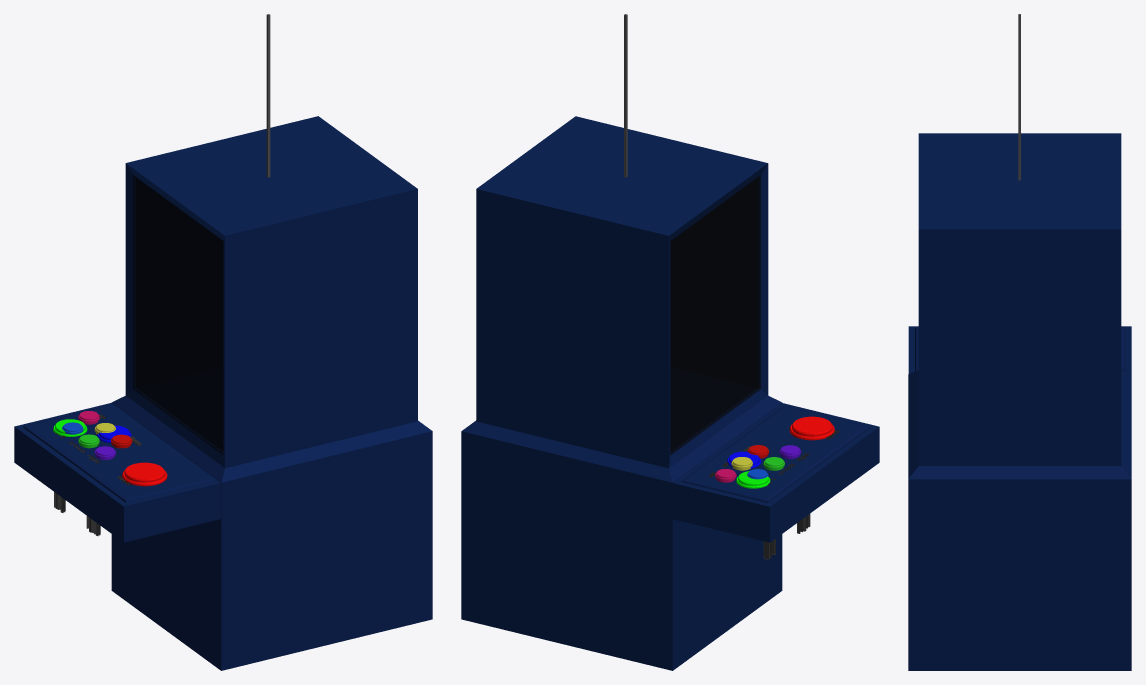
Rendered from arcade.fbx.
3 renders of one model, left to right at view 1: azimuth 30°, elevation 25°; view 2: azimuth 150°, elevation 25°; view 3: azimuth 270°, elevation 25°, orthographic.
Parts seen in each view (by area): view 1: StaticMeshActor_55, StaticMeshActor_62, StaticMeshActor_54, StaticMeshActor_49, StaticMeshActor_57; view 2: StaticMeshActor_55, StaticMeshActor_62, StaticMeshActor_54, StaticMeshActor_49, StaticMeshActor_57; view 3: StaticMeshActor_55, StaticMeshActor_54, StaticMeshActor_57.
Boxes of the visible parts, <box> form: StaticMeshActor_55: <box>111,116,432,670</box>; StaticMeshActor_62: <box>133,175,223,454</box>; StaticMeshActor_54: <box>14,403,220,542</box>; StaticMeshActor_49: <box>122,462,167,486</box>; StaticMeshActor_57: <box>266,14,270,177</box>; StaticMeshActor_55: <box>461,116,782,670</box>; StaticMeshActor_62: <box>670,175,760,454</box>; StaticMeshActor_54: <box>672,403,879,542</box>; StaticMeshActor_49: <box>789,416,834,440</box>; StaticMeshActor_57: <box>624,14,627,177</box>; StaticMeshActor_55: <box>908,133,1131,670</box>; StaticMeshActor_54: <box>908,326,1131,373</box>; StaticMeshActor_57: <box>1018,14,1020,180</box>.
Size of what is drawn, in the model's own units: 179 by 110 by 328.
